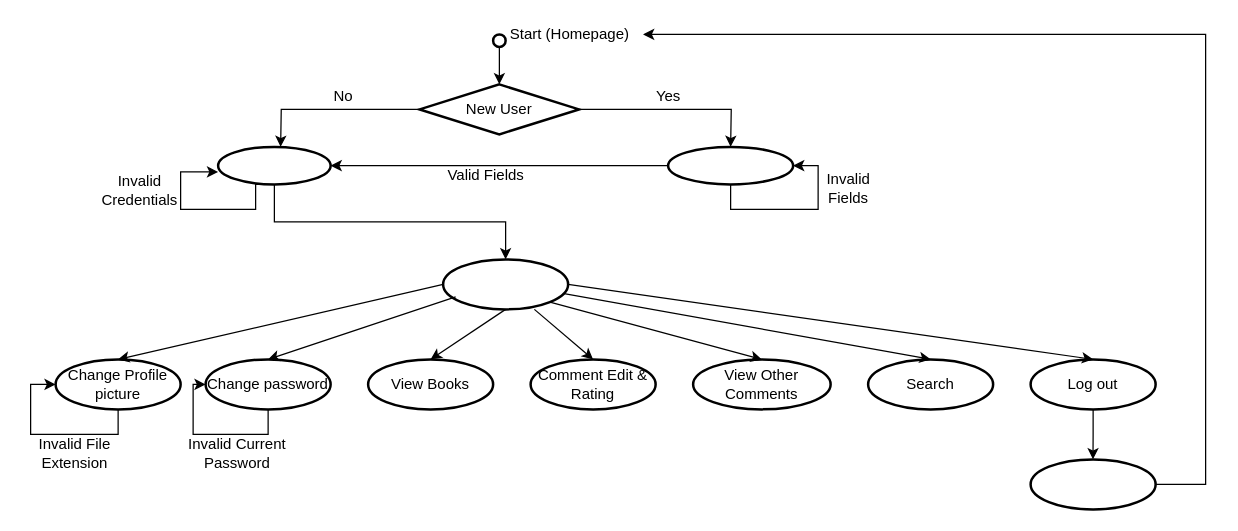
Some shapes in this 1238 by 531 pixel diagram are drawn without their labels. Each missing label, with the centre of its shape:
DashBoard: (x=505, y=284)
Home Page: (x=1092, y=484)
Log-in: (x=273, y=165)
Register: (x=730, y=165)
